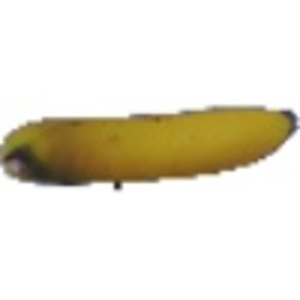banana: (4, 100, 295, 185)
